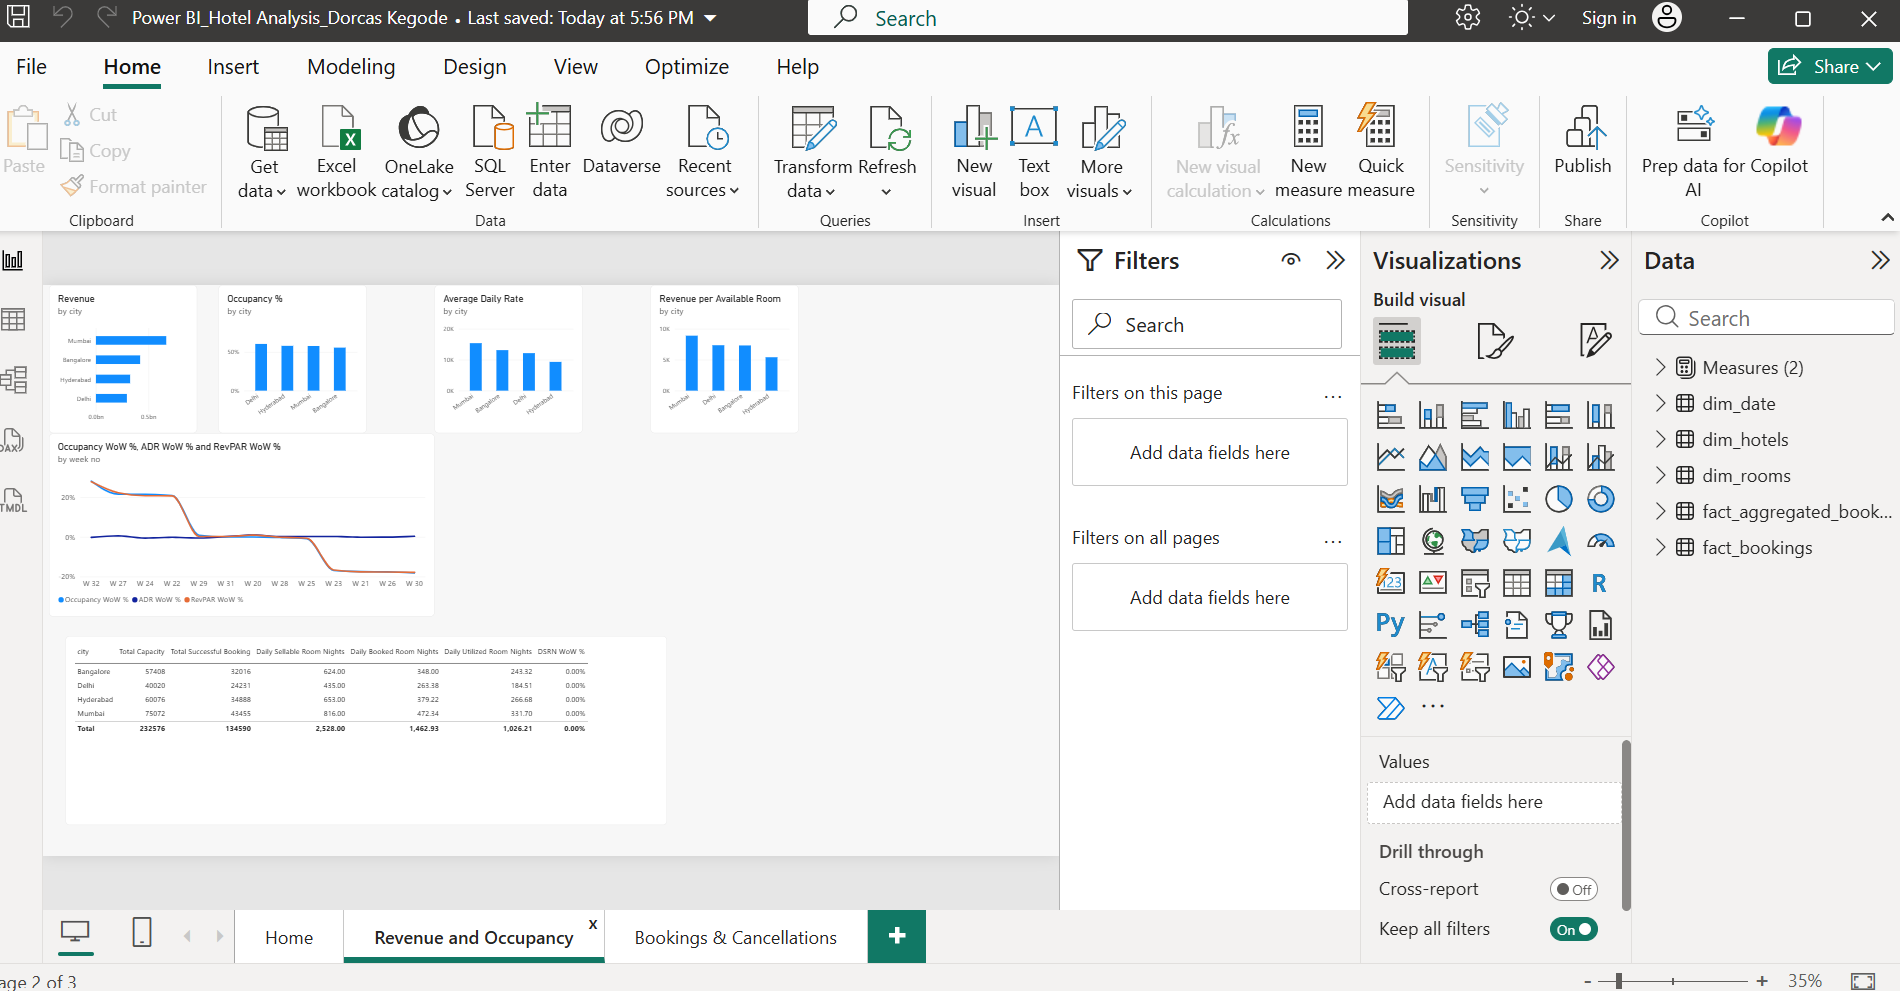

What the dashboard file says about the page in this screenshot:
{"tool":"powerbi","page":{"name":"Revenue and Occupancy","canvas":[1920,1080],"ordinal":1},"visuals":[{"type":"clusteredBarChart","fields":{"Category":["dim_hotels.city"],"Y":["Measures (2).Revenue"]},"box":[10,0,280,280],"z":0},{"type":"clusteredColumnChart","fields":{"Category":["dim_hotels.city"],"Y":["Measures (2).Occupancy %"]},"box":[331.7,0,280,280],"z":1},{"type":"clusteredColumnChart","fields":{"Category":["dim_hotels.city"],"Y":["Measures (2).Average Daily Rate"]},"box":[739.8,0,280,280],"z":2},{"type":"clusteredColumnChart","fields":{"Category":["dim_hotels.city"],"Y":["Measures (2).Revenue per Available Room"]},"box":[1148,0,280,280],"z":3},{"type":"lineChart","fields":{"Category":["dim_date.week no"],"Y":["Measures (2).Occupancy WoW %","Measures (2).ADR WoW %","Measures (2).RevPAR WoW %"]},"box":[11.3,280.6,728.5,345.8],"z":4},{"type":"tableEx","fields":{"Values":["dim_hotels.city","Measures (2).Total Capacity","Measures (2).Total Successful Booking","Measures (2).Daily Sellable Room Nights","Measures (2).Daily Booked Room Nights","Measures (2).Daily Utilized Room Nights","Measures (2).DSRN WoW %"]},"box":[42.5,663.3,1136.7,357.2],"z":5}]}

Visuals, with their boxes on the page's 1920x1080 design canvas (x1, y1, x2, y2). These are canvas units, not pixel positions in the 1900x991 screenshot, which may show the page scaled, cropped or inside an application window:
clusteredBarChart - dim_hotels.city x Measures (2).Revenue: x1=10, y1=0, x2=290, y2=280
clusteredColumnChart - dim_hotels.city x Measures (2).Occupancy %: x1=332, y1=0, x2=612, y2=280
clusteredColumnChart - dim_hotels.city x Measures (2).Average Daily Rate: x1=740, y1=0, x2=1020, y2=280
clusteredColumnChart - dim_hotels.city x Measures (2).Revenue per Available Room: x1=1148, y1=0, x2=1428, y2=280
lineChart - dim_date.week no x Measures (2).Occupancy WoW %: x1=11, y1=281, x2=740, y2=626
tableEx - dim_hotels.city x Measures (2).Total Capacity: x1=42, y1=663, x2=1179, y2=1020
